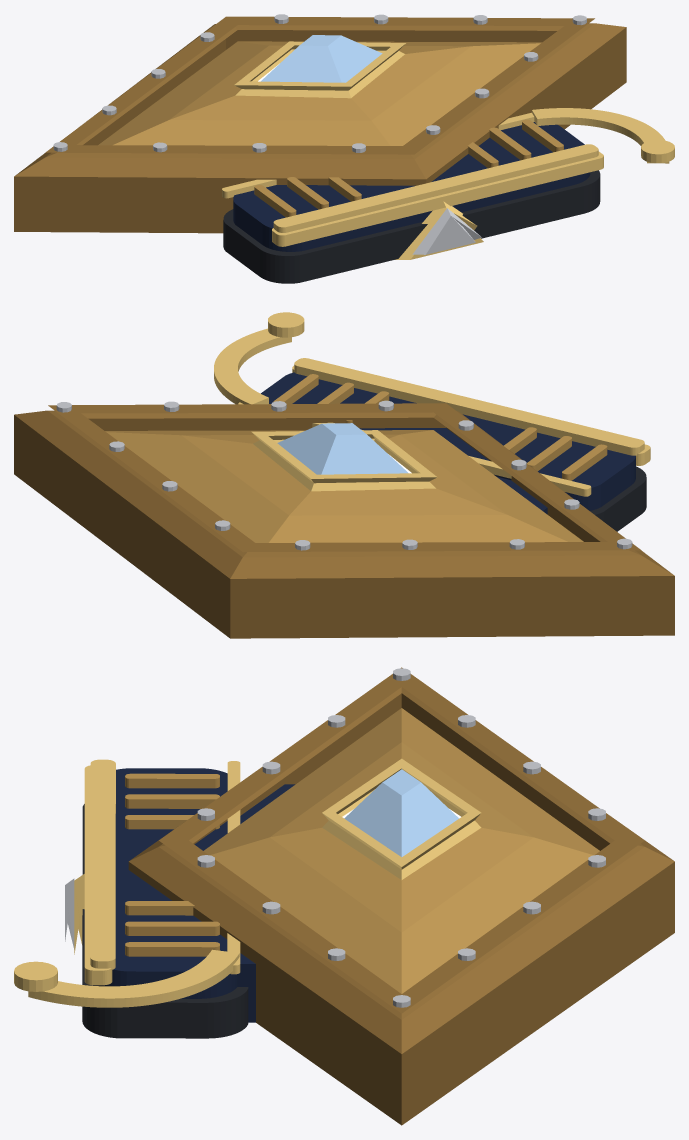
Rendered from eight_k_grad.glb.
The picture shows the model from 3 angles, top to bottom: view 1: azimuth 30°, elevation 25°; view 2: azimuth 150°, elevation 25°; view 3: azimuth 270°, elevation 25°; orthographic projection. The views are drawn at different scales.
Visible parts, largest first — view 1: EK_BoardRim, EK_Plate, EK_BandTop, EK_BandShadow, EK_BandBody, EK_CenterGem, EK_CrestChrome; view 2: EK_BoardRim, EK_Plate, EK_BandTop, EK_BandBody, EK_CenterGem, EK_CrestChrome, EK_BandShadow; view 3: EK_BoardRim, EK_Plate, EK_BandTop, EK_BandBody, EK_BandShadow, EK_CenterGem, EK_CrestChrome.
Part boxes in pixels (x1,y1,x2,y2): EK_BoardRim: [14, 16, 626, 233]; EK_Plate: [98, 41, 563, 217]; EK_BandTop: [222, 41, 674, 259]; EK_BandShadow: [223, 170, 600, 283]; EK_BandBody: [233, 122, 590, 251]; EK_CenterGem: [261, 35, 382, 82]; EK_CrestChrome: [53, 14, 586, 254]; EK_BoardRim: [14, 403, 674, 638]; EK_Plate: [105, 374, 607, 542]; EK_BandTop: [214, 312, 650, 496]; EK_BandBody: [261, 372, 635, 514]; EK_CenterGem: [277, 423, 408, 474]; EK_CrestChrome: [56, 400, 632, 550]; EK_BandShadow: [590, 466, 646, 531]; EK_BoardRim: [128, 667, 674, 1125]; EK_Plate: [125, 708, 599, 993]; EK_BandTop: [14, 758, 481, 1007]; EK_BandBody: [93, 768, 295, 1022]; EK_BandShadow: [82, 804, 248, 1038]; EK_CenterGem: [344, 769, 458, 857]; EK_CrestChrome: [65, 668, 605, 1007].
Size of the model in its own units: 0.0394 by 0.00722 by 0.0286.
